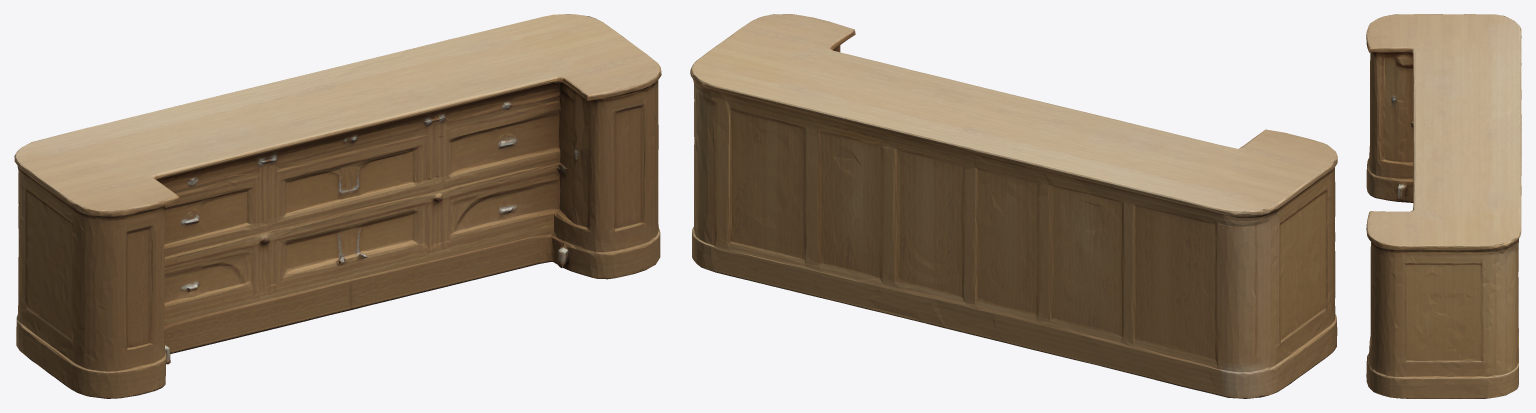
The picture shows the model from 3 angles, left to right: view 1: azimuth 30°, elevation 25°; view 2: azimuth 150°, elevation 25°; view 3: azimuth 270°, elevation 25°; orthographic projection. The views are drawn at different scales.
Parts seen in each view (by area): view 1: world; view 2: world; view 3: world.
Part boxes in pixels (<box>): world: <box>14,14,661,398</box>; world: <box>690,14,1337,398</box>; world: <box>1366,14,1521,398</box>.
Size of the model in its own units: 0.9966 by 0.3073 by 0.2807.
1 material, 1 textured.
